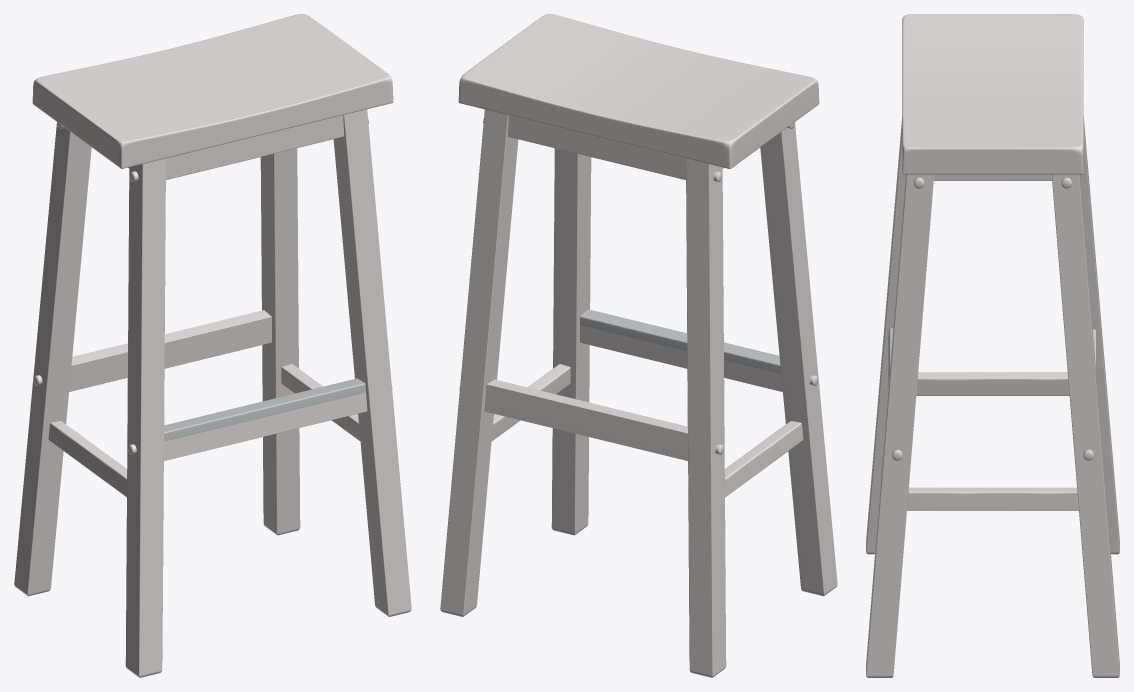
Rendered from stool_B07L6KPT9P.glb.
3 renders of one model, left to right at view 1: azimuth 30°, elevation 25°; view 2: azimuth 150°, elevation 25°; view 3: azimuth 270°, elevation 25°, orthographic.
Parts seen in each view (by area): view 1: RootNode; view 2: RootNode; view 3: RootNode.
Part boxes in pixels (x1,y1,x2,y2): RootNode: (14,14,411,677); RootNode: (440,14,837,677); RootNode: (866,14,1119,677).
Size of the model in its own units: 0.4056 by 0.7422 by 0.3221.
Materials: 1 (1 with a texture image).
